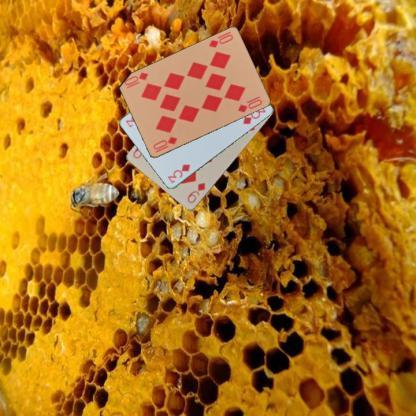10d: (150, 134, 179, 154), (206, 32, 235, 49)
3d: (165, 162, 191, 184)
9d: (184, 180, 206, 204)
